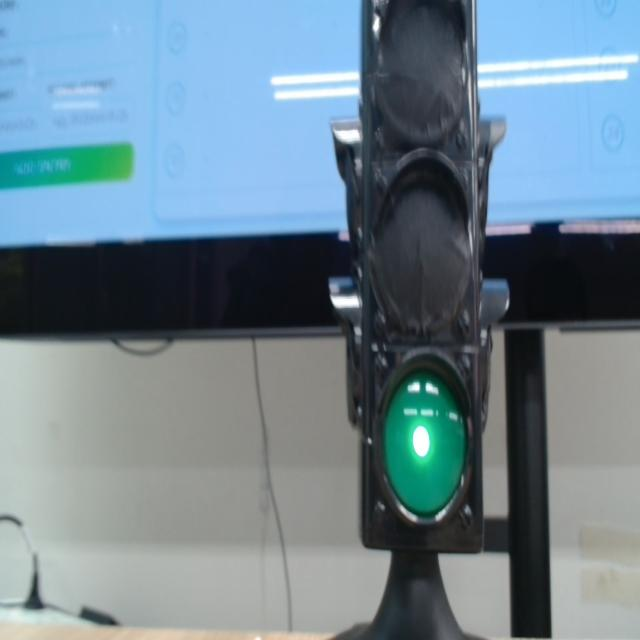green_light: (384, 371, 467, 517)
